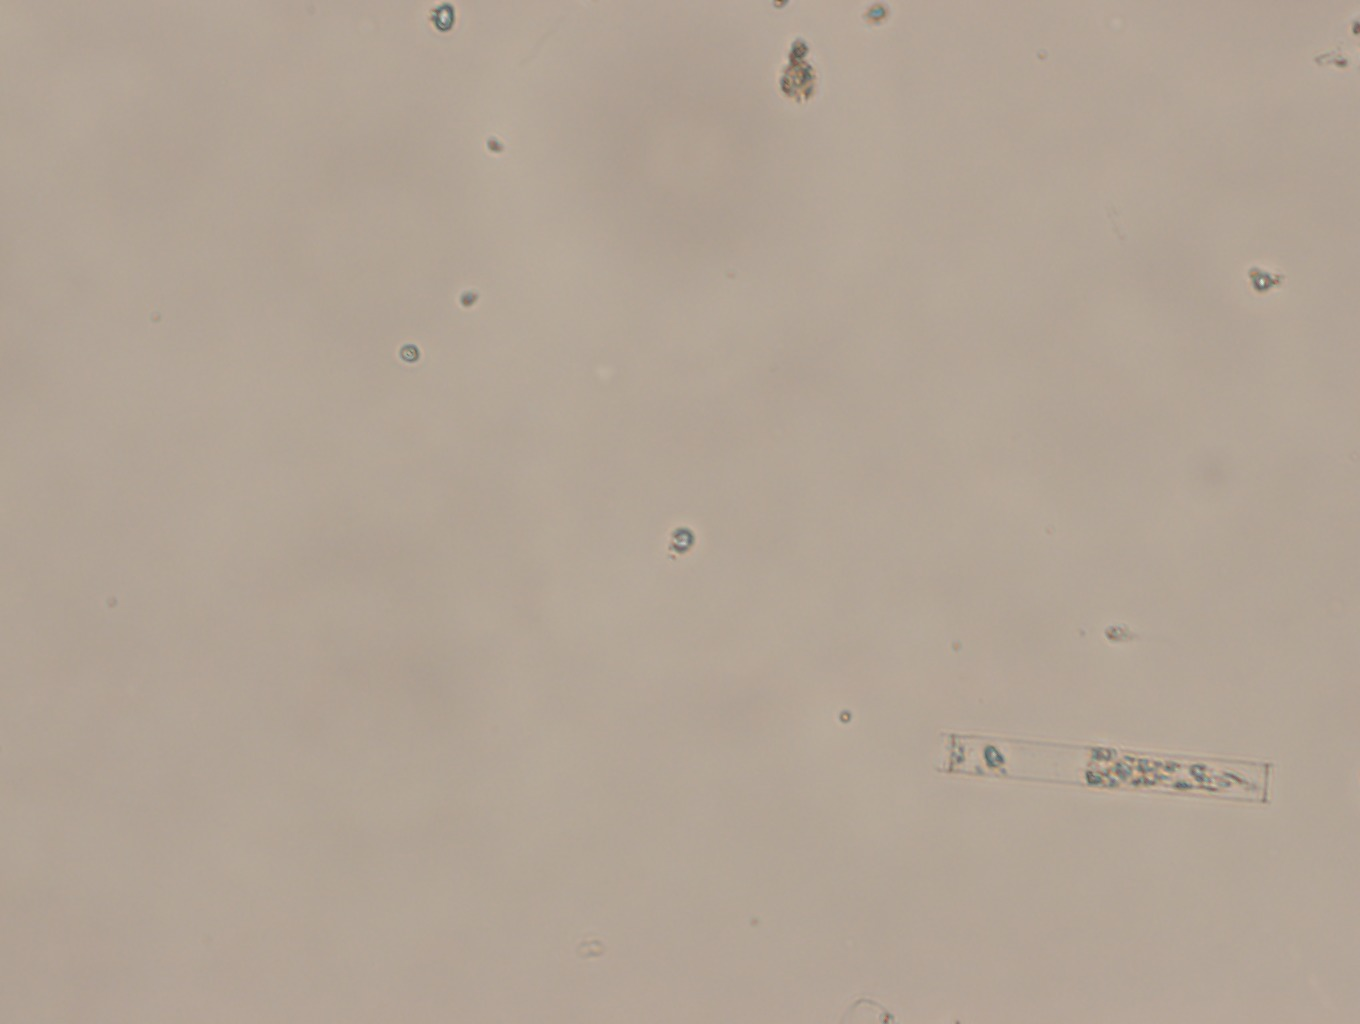guinardia flaccida: (927, 726, 1289, 816)
